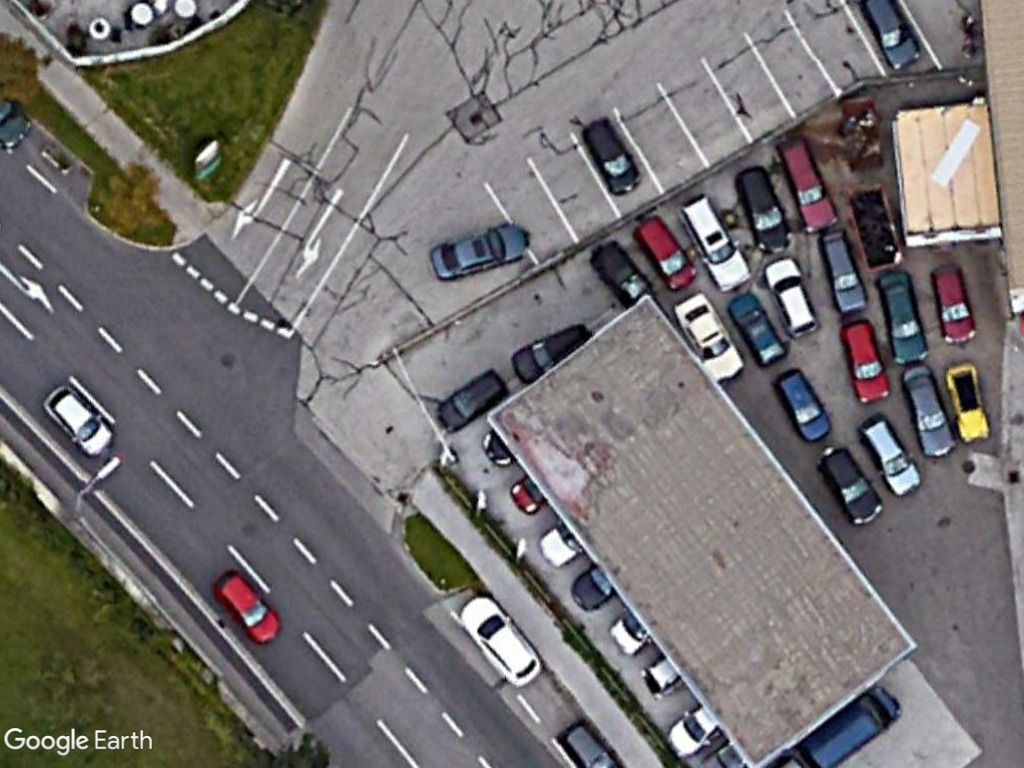car: (455, 590, 544, 687), (677, 191, 754, 295), (772, 132, 837, 236), (425, 221, 534, 283), (676, 291, 743, 387), (816, 442, 888, 531), (209, 567, 285, 647), (39, 384, 117, 460), (876, 269, 934, 370), (733, 161, 794, 255), (859, 409, 922, 500), (900, 362, 956, 462), (433, 365, 511, 436), (581, 113, 643, 202), (727, 285, 790, 371), (764, 251, 822, 344), (630, 212, 698, 291), (835, 322, 892, 409), (770, 367, 831, 448), (816, 228, 872, 316), (931, 260, 980, 347), (943, 361, 991, 445), (591, 242, 652, 308)
